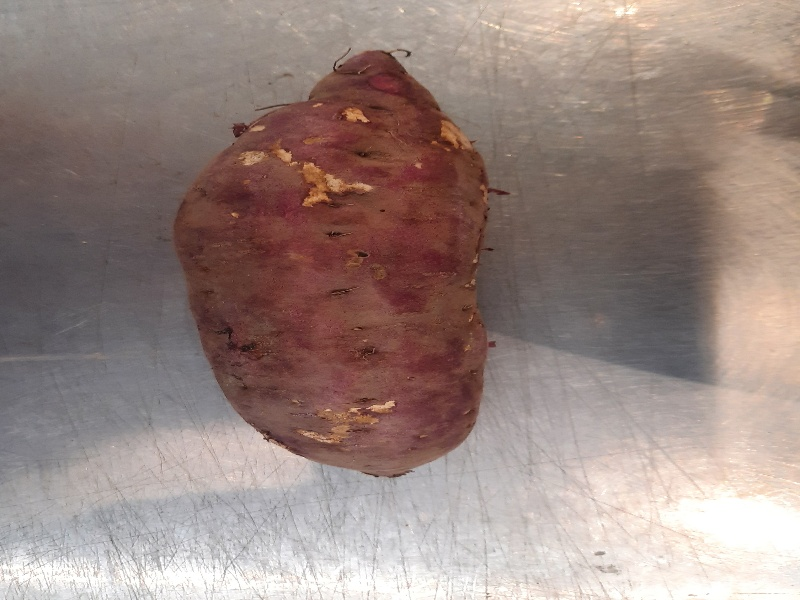vege: (164, 46, 495, 486)
